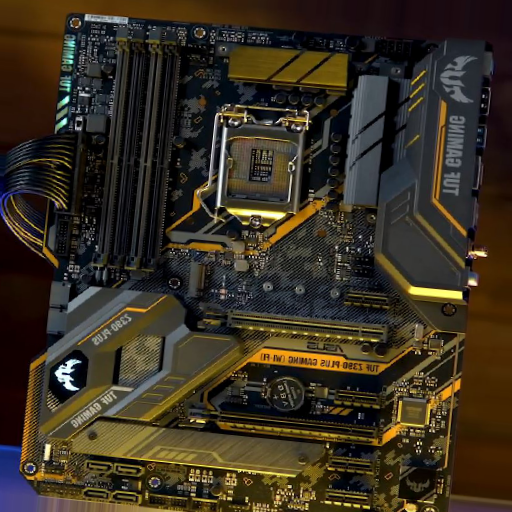CPU: (217, 108, 308, 229)
GPU: (183, 400, 381, 448), (201, 302, 388, 347)
MOTHERBOARD: (31, 22, 488, 512)
RAM: (92, 26, 180, 280)
SSD: (186, 260, 207, 301)
